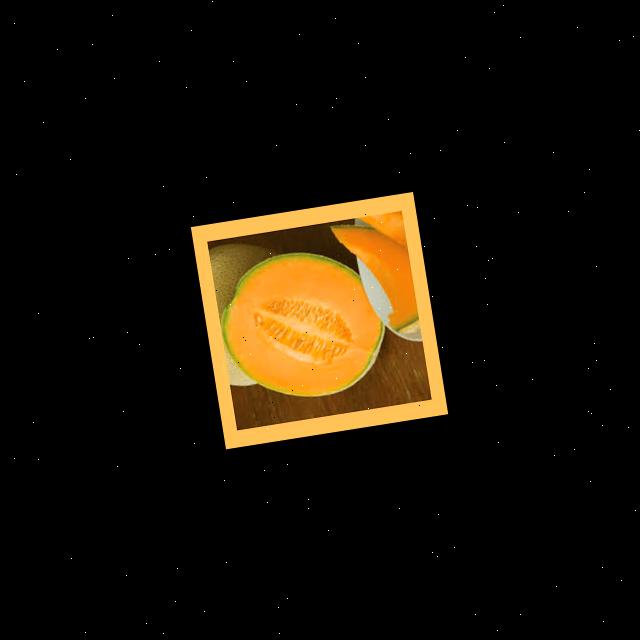Hami Melon: (212, 241, 392, 409), (330, 215, 420, 342)
